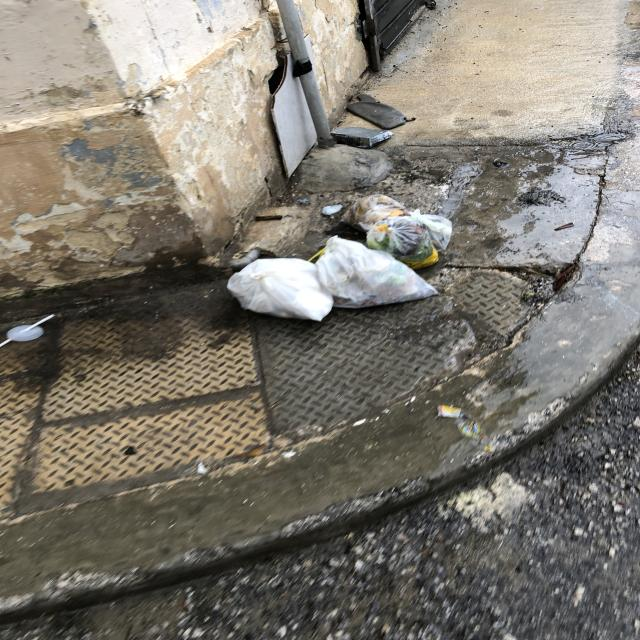Organic Waste -White Bag-: (319, 237, 440, 308), (228, 259, 338, 322), (369, 219, 455, 268), (342, 196, 417, 236)
Other: (350, 95, 412, 131), (328, 126, 400, 147)
